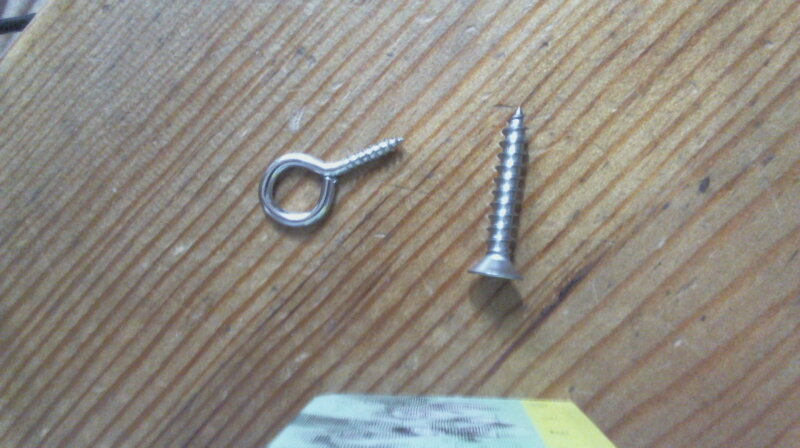O001: (255, 132, 413, 234)
S001: (465, 104, 539, 292)
